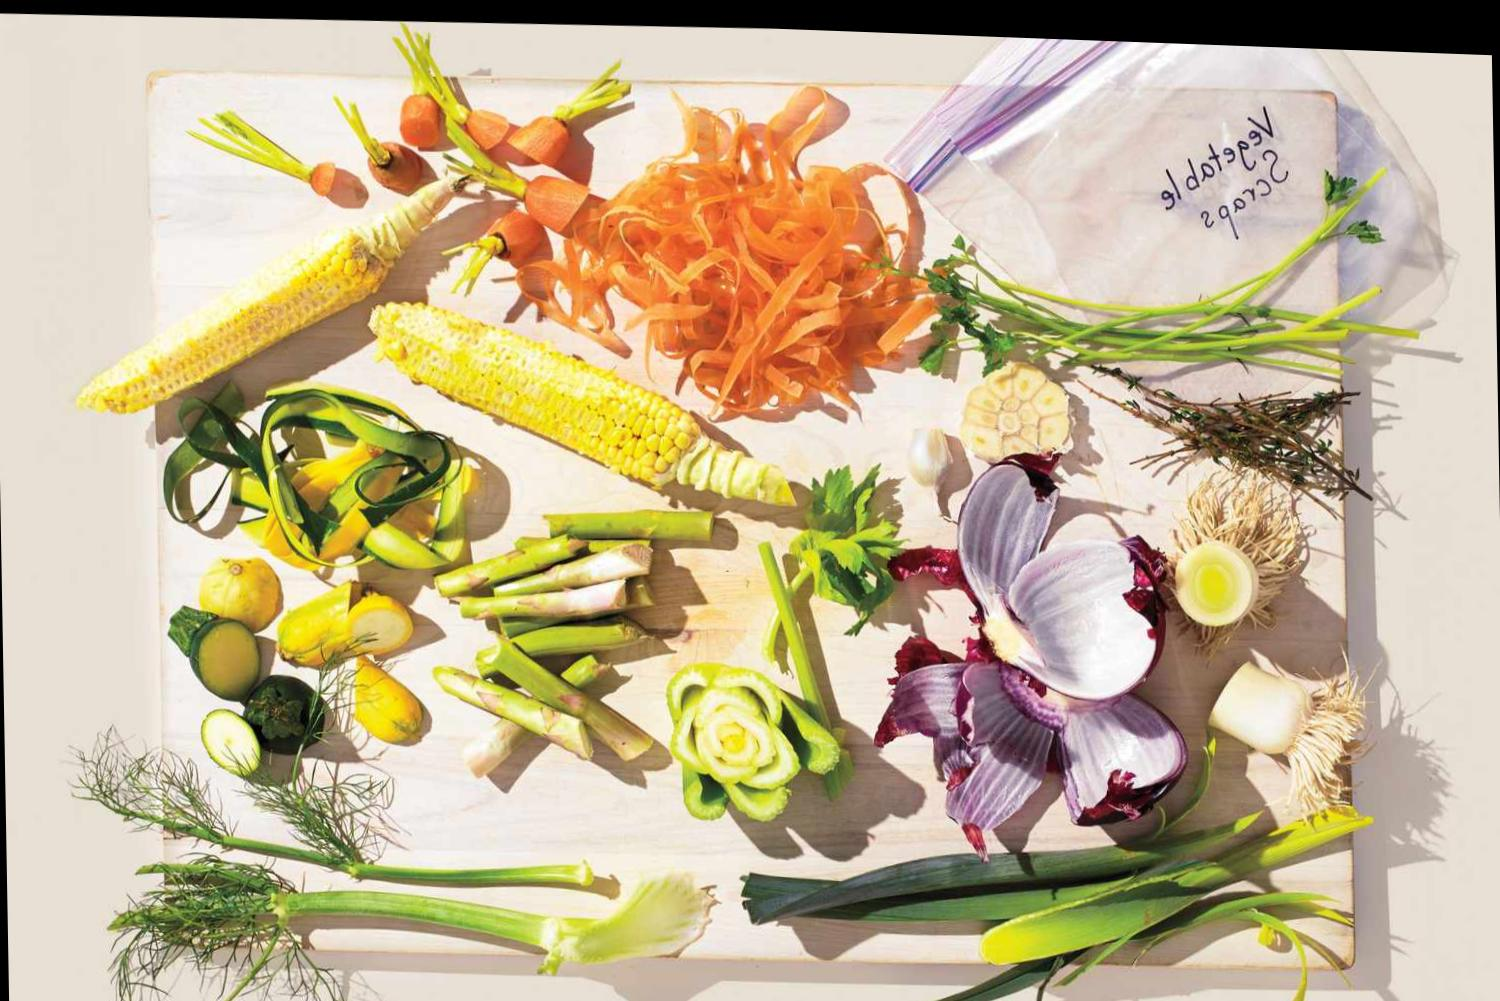organic: (871, 146, 1420, 394), (563, 76, 943, 426), (71, 161, 476, 427), (105, 839, 722, 1001), (63, 718, 595, 897), (367, 294, 796, 515), (161, 371, 477, 579), (1079, 355, 1373, 527), (871, 627, 1060, 869), (984, 526, 1175, 705), (665, 655, 844, 826), (762, 457, 907, 668), (1165, 469, 1300, 665), (1205, 657, 1367, 811), (481, 628, 655, 765), (1051, 681, 1190, 830), (955, 445, 1063, 619), (443, 115, 589, 237), (432, 660, 596, 763), (392, 20, 510, 152), (506, 55, 633, 168), (184, 105, 334, 199), (472, 607, 648, 686), (957, 359, 1069, 469), (433, 526, 583, 602), (491, 538, 653, 602), (165, 602, 261, 703), (331, 93, 422, 194), (458, 571, 627, 623), (274, 575, 356, 671), (539, 504, 718, 546), (241, 671, 327, 759), (197, 554, 281, 638), (352, 651, 424, 747), (395, 30, 445, 146), (345, 582, 412, 656), (199, 707, 261, 779), (909, 426, 954, 517)
